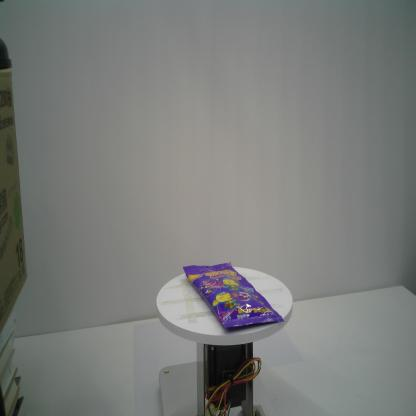Candy: (182, 262, 284, 328)
